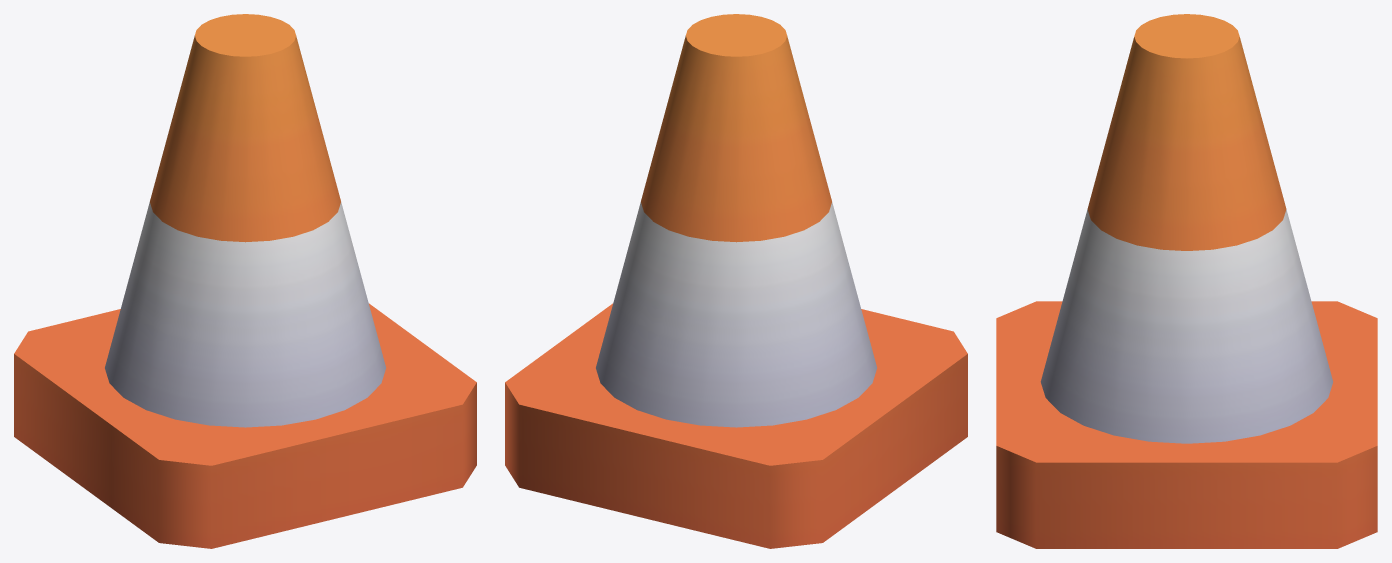
The model's file is k-car-cone.glb.
3 views of the same model, side by side, from view 1: azimuth 30°, elevation 25°; view 2: azimuth 150°, elevation 25°; view 3: azimuth 270°, elevation 25° (orthographic). The views are drawn at different scales.
Parts seen in each view (by area): view 1: cone; view 2: cone; view 3: cone.
Boxes of the visible parts, x1=… form: cone: x1=14, y1=14, x2=476, y2=548; cone: x1=505, y1=14, x2=967, y2=548; cone: x1=996, y1=14, x2=1377, y2=548.
Size of the model in its own units: 0.4762 by 0.5952 by 0.4762.
1 material, 1 textured.
